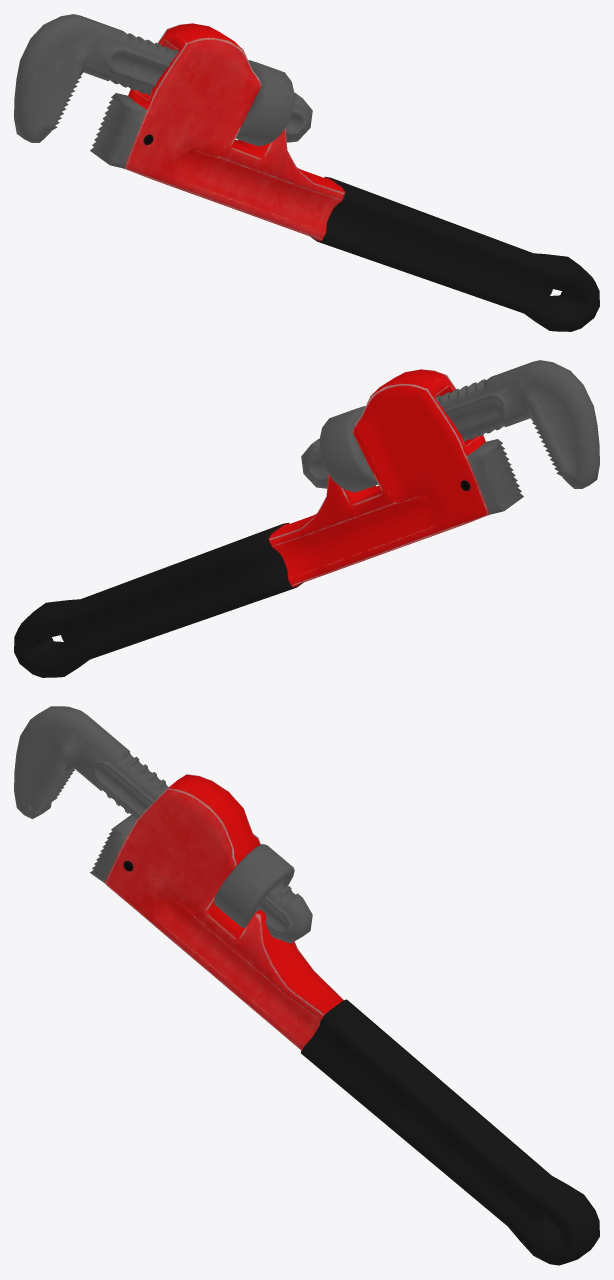
File: servis.glb
3 views of the same model, one above another, from view 1: azimuth 30°, elevation 25°; view 2: azimuth 150°, elevation 25°; view 3: azimuth 330°, elevation 25° (orthographic).
Visible parts, largest first — view 1: servis; view 2: servis; view 3: servis.
Part boxes in pixels (x1=…): servis: x1=14, y1=14, x2=599, y2=331; servis: x1=14, y1=360, x2=599, y2=677; servis: x1=14, y1=706, x2=599, y2=1265.
Size of the model in its own units: 0.6475 by 0.4623 by 0.0785.
Materials: 1 (1 with a texture image).
